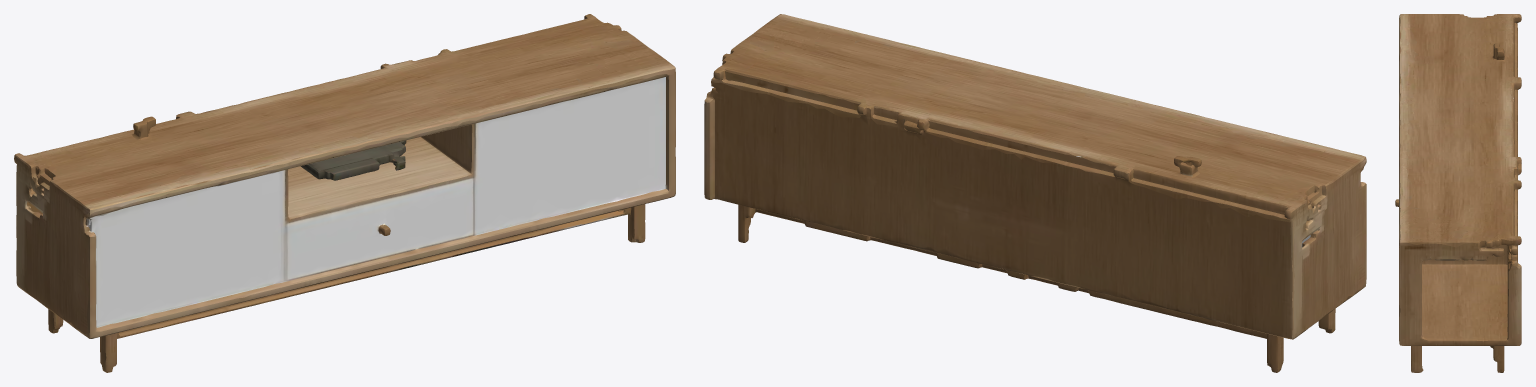
Rendered from room__n27-6.glb.
3 views of the same model, side by side, from view 1: azimuth 30°, elevation 25°; view 2: azimuth 150°, elevation 25°; view 3: azimuth 270°, elevation 25° (orthographic). The views are drawn at different scales.
Bounding box in the file's own units: 1.01 × 0.3121 × 0.2349.
1 material, 1 textured.
